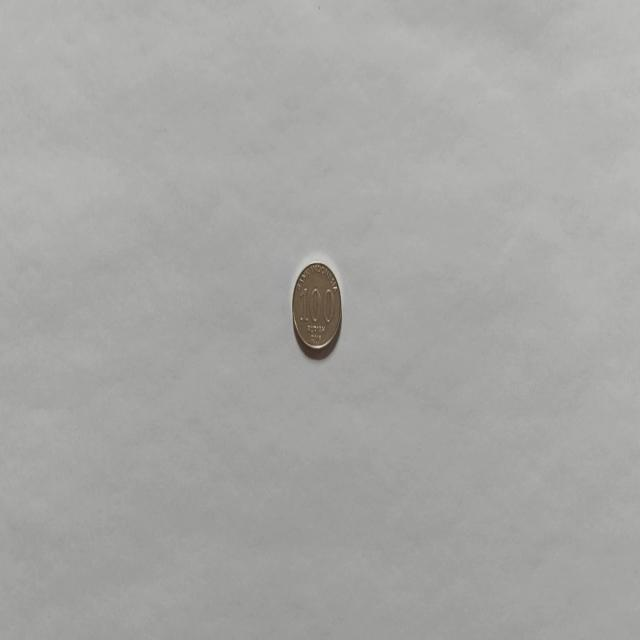seratus rupiah: (290, 260, 342, 358)
